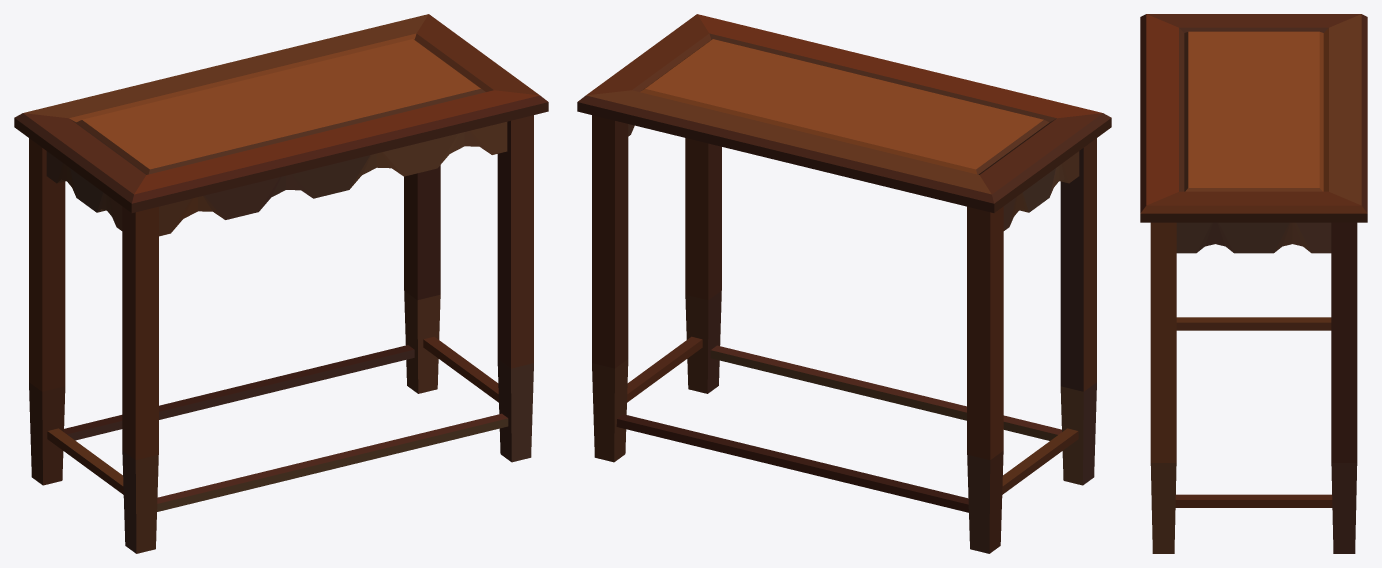
File: Furniture_EndTableD.fbx
3 views of the same model, side by side, from view 1: azimuth 30°, elevation 25°; view 2: azimuth 150°, elevation 25°; view 3: azimuth 270°, elevation 25° (orthographic). The views are drawn at different scales.
Visible parts, largest first — view 1: Furniture_EndTableD; view 2: Furniture_EndTableD; view 3: Furniture_EndTableD.
Boxes of the visible parts, x1,y1,x2,y2 form: Furniture_EndTableD: (14,14,548,553); Furniture_EndTableD: (577,14,1111,553); Furniture_EndTableD: (1140,14,1367,553).
Bounding box in the file's own units: 119 × 98.77 × 57.9.
